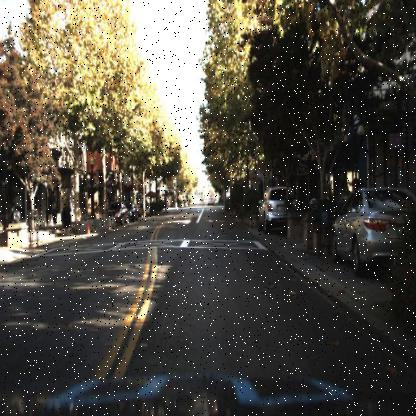car: (331, 183, 416, 276), (256, 183, 296, 239), (103, 200, 129, 226), (125, 198, 139, 220)
